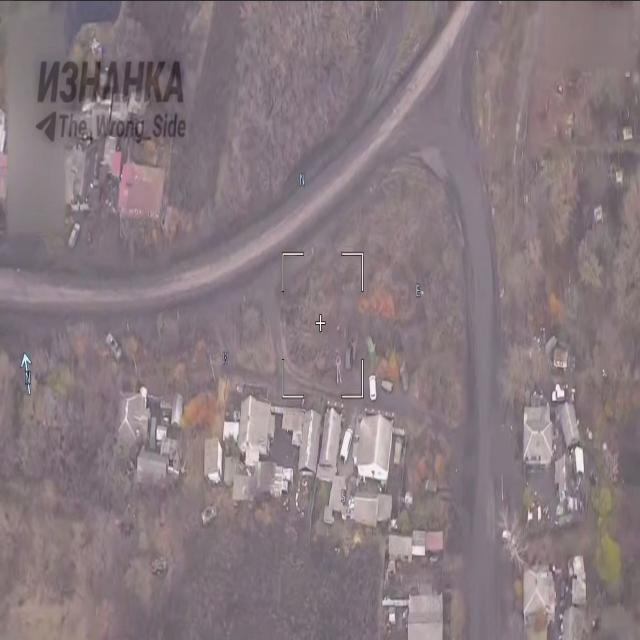fortification: (112, 368, 207, 496), (117, 157, 181, 237), (226, 385, 276, 464), (273, 402, 319, 467), (520, 396, 557, 476), (552, 444, 586, 530), (350, 408, 388, 478), (343, 487, 393, 535), (399, 590, 447, 640), (520, 559, 552, 633), (559, 583, 597, 640), (60, 158, 96, 213), (316, 400, 344, 469), (229, 453, 266, 504), (559, 547, 591, 604), (196, 429, 226, 485), (556, 396, 583, 451), (94, 135, 122, 186), (567, 442, 591, 490), (62, 208, 88, 252), (418, 525, 447, 564), (382, 525, 410, 563), (549, 346, 576, 385), (410, 524, 436, 564)
vehicle: (196, 496, 224, 530), (144, 549, 174, 580), (103, 328, 126, 365), (338, 425, 354, 474), (63, 221, 84, 252), (364, 371, 380, 402), (378, 374, 396, 394)
